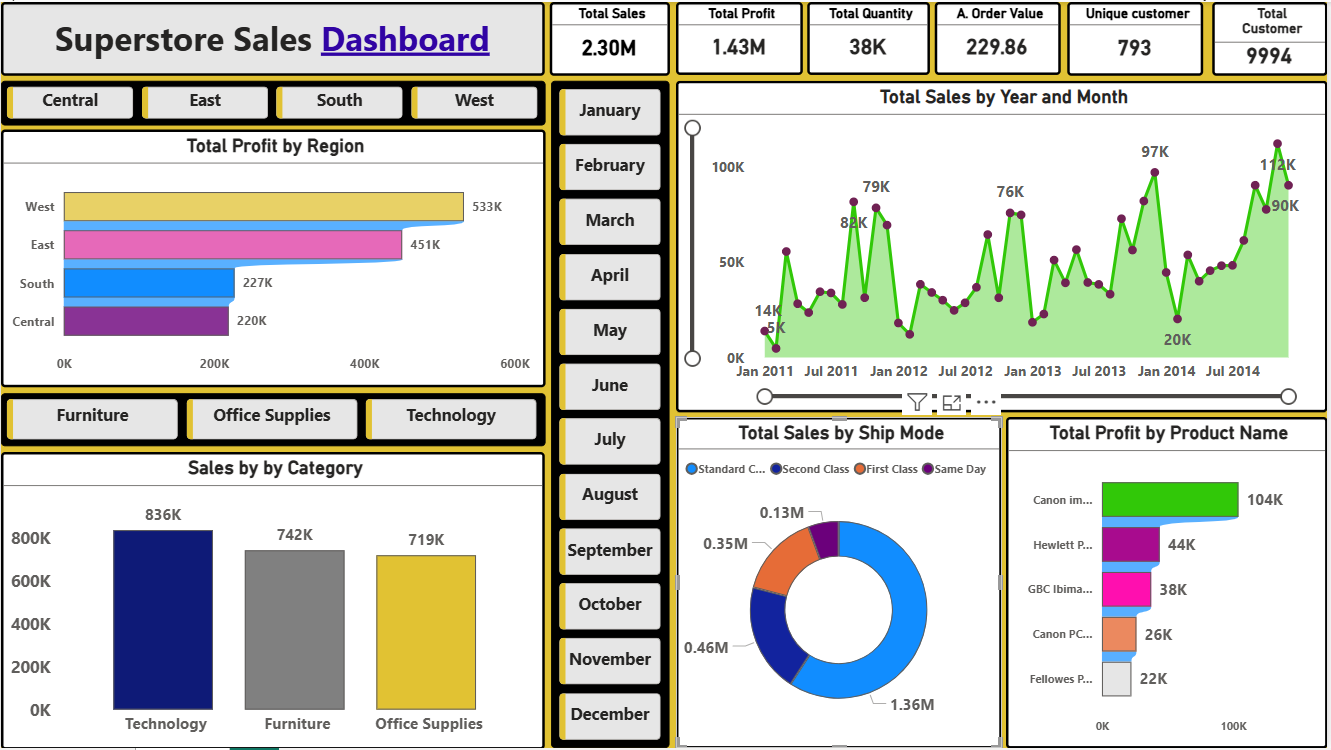

The dashboard page shown, as its layout file describes it:
{"tool":"powerbi","page":{"name":"Page 1","canvas":[1280,720],"ordinal":0},"visuals":[{"type":"card","title":"Total Sales","fields":{"Values":["Superstore.total_sales"]},"box":[530,0,115.7,71.4],"z":0},{"type":"card","title":"Total Quantity","fields":{"Values":["Superstore.Total_quantity"]},"box":[778.3,0,118.3,70.7],"z":1000},{"type":"card","title":"Unique customer","fields":{"Values":["Superstore.unqiue customer"]},"box":[1029.1,0,131.5,71.2],"z":2000},{"type":"card","title":"A. Order Value","fields":{"Values":["Superstore.Aerage_sales"]},"box":[901,0,121.3,70.7],"z":3000},{"type":"clusteredColumnChart","fields":{"Category":["Superstore.Category"],"Y":["Sum(Superstore.Sales)"]},"box":[0,433.8,525,287.5],"z":4000},{"type":"advancedSlicerVisual","fields":{"Values":["Superstore.Category"]},"box":[0,378,525.2,51.2],"z":5000},{"type":"card","title":"Total Customer","fields":{"Values":["Superstore.total_cutomer"]},"box":[1169,0,111,71.2],"z":6000},{"type":"barChart","fields":{"Category":["Superstore.Region"],"Y":["Superstore.Total Profit"]},"box":[0,123.5,525.3,248.8],"z":7000},{"type":"card","title":"Total Profit","fields":{"Values":["Superstore.Total Profit"]},"box":[651.3,0,122.3,70.7],"z":8000},{"type":"advancedSlicerVisual","fields":{"Values":["Superstore.Region"]},"box":[0,75.9,525.3,43.5],"z":9000},{"type":"lineChart","fields":{"Y":["Sum(Superstore.Sales)"],"Category":["Superstore.Order Date.Variation.Date Hierarchy.Year","Superstore.Order Date.Variation.Date Hierarchy.Month"]},"box":[651.4,75.7,628.6,320],"z":10000},{"type":"advancedSlicerVisual","fields":{"Values":["Superstore.Order Date.Variation.Date Hierarchy.Month"]},"box":[530.6,75.9,114.7,644.1],"z":11000},{"type":"donutChart","fields":{"Category":["Superstore.Ship Mode"],"Y":["Superstore.total_sales"]},"box":[651.2,400,314.7,320],"z":12000},{"type":"barChart","fields":{"Category":["Superstore.Product Name"],"Y":["Superstore.Total Profit"]},"box":[970,400,310,320],"z":13000},{"type":"textbox","box":[0,0,525,71.4],"z":14000}]}

Visuals, with their boxes in screenshot pixels (x1, y1, x2, y2), scaled from the page's 1280x720 canvas onto the 1331x750 screenshot:
"Total Sales" card: 551 0 671 74
"Total Quantity" card: 809 0 932 74
"Unique customer" card: 1070 0 1207 74
"A. Order Value" card: 937 0 1063 74
clusteredColumnChart - Superstore.Category x Sum(Superstore.Sales): 0 452 546 749
advancedSlicerVisual - Superstore.Category: 0 394 546 447
"Total Customer" card: 1216 0 1330 74
barChart - Superstore.Region x Superstore.Total Profit: 0 129 546 388
"Total Profit" card: 677 0 804 74
advancedSlicerVisual - Superstore.Region: 0 79 546 124
lineChart - Sum(Superstore.Sales) x Superstore.Order Date.Variation.Date Hierarchy.Year: 677 79 1330 412
advancedSlicerVisual - Superstore.Order Date.Variation.Date Hierarchy.Month: 552 79 671 749
donutChart - Superstore.Ship Mode x Superstore.total_sales: 677 417 1004 749
barChart - Superstore.Product Name x Superstore.Total Profit: 1009 417 1330 749
textbox: 0 0 546 74
